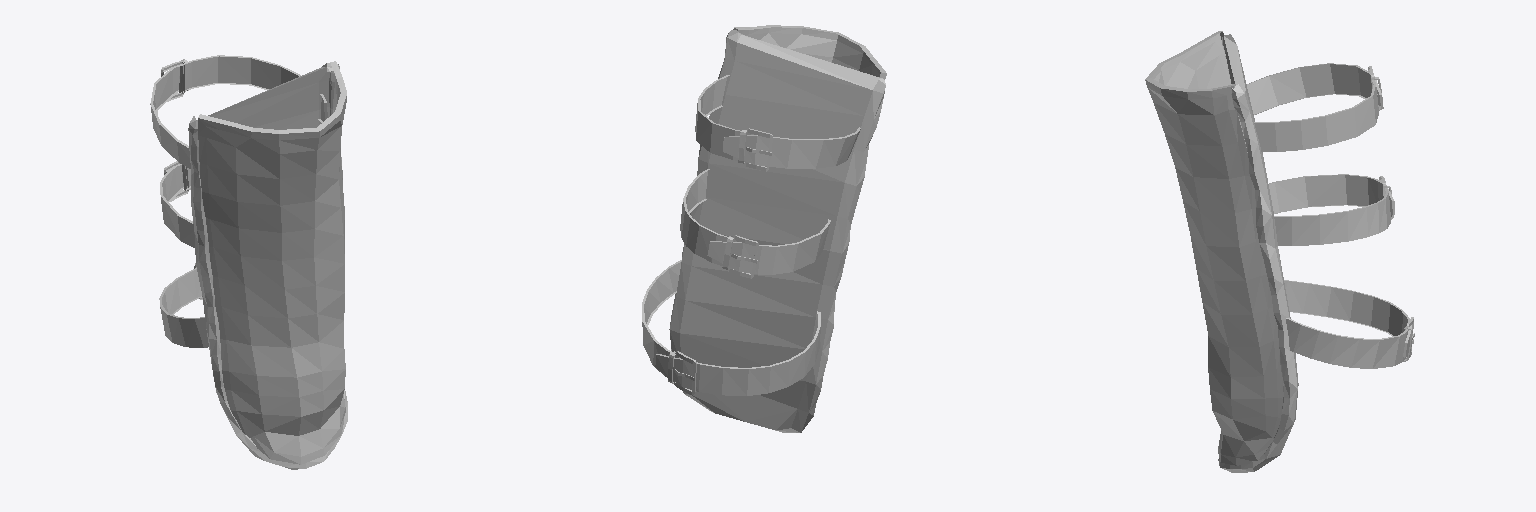
Rendered from tibia_gauche.obj.
3 views of the same model, side by side, from view 1: azimuth 30°, elevation 25°; view 2: azimuth 150°, elevation 25°; view 3: azimuth 270°, elevation 25° (orthographic).
Parts seen in each view (by area): view 1: Soi_SimpleArmor_Kneeguards.004_Plane.009; view 2: Soi_SimpleArmor_Kneeguards.004_Plane.009; view 3: Soi_SimpleArmor_Kneeguards.004_Plane.009.
Boxes of the visible parts, <box> form: Soi_SimpleArmor_Kneeguards.004_Plane.009: <box>150,55,347,469</box>; Soi_SimpleArmor_Kneeguards.004_Plane.009: <box>642,25,886,432</box>; Soi_SimpleArmor_Kneeguards.004_Plane.009: <box>1145,31,1414,472</box>.
Bounding box in the file's own units: 0.1635 × 0.3338 × 0.2064.